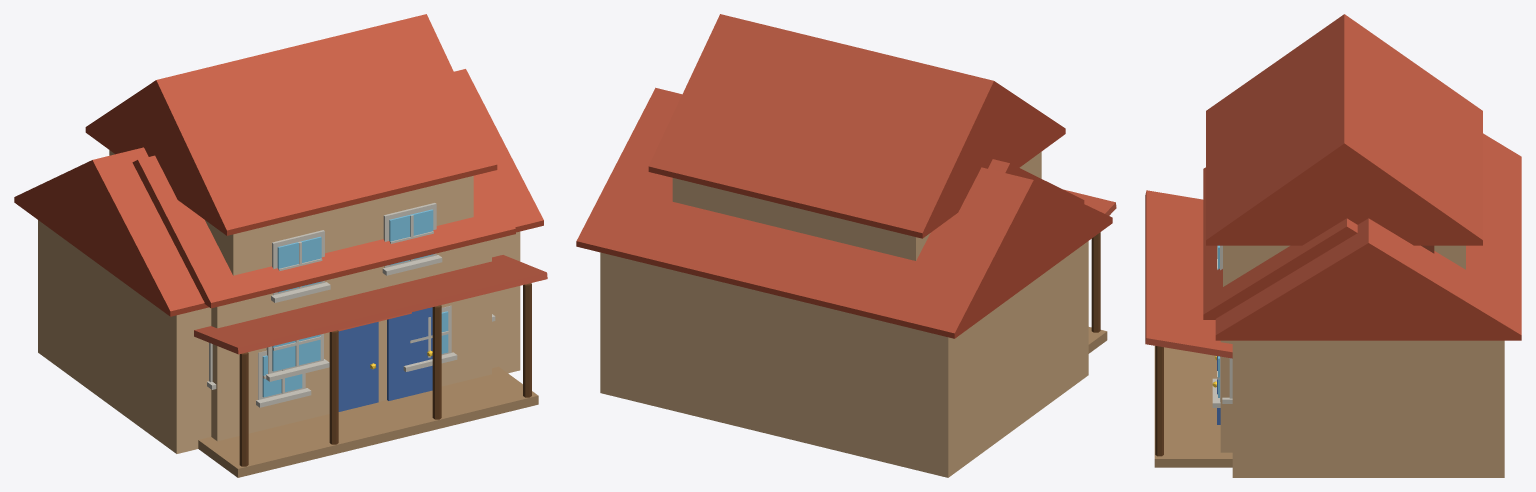
The model's file is Yardsweep-Scenery.glb.
The picture shows the model from 3 angles, left to right: view 1: azimuth 30°, elevation 25°; view 2: azimuth 150°, elevation 25°; view 3: azimuth 270°, elevation 25°; orthographic projection. The views are drawn at different scales.
Visible parts, largest first — view 1: house_10, house_20, house_00; view 2: house_20, house_10, house_00; view 3: house_20, house_10, house_00.
Boxes of the visible parts, <box> form: house_10: <box>85,14,497,411</box>; house_20: <box>14,69,547,477</box>; house_00: <box>132,155,515,441</box>; house_20: <box>576,87,1116,477</box>; house_10: <box>648,14,1065,260</box>; house_00: <box>988,159,1084,203</box>; house_20: <box>1145,133,1521,477</box>; house_10: <box>1206,14,1482,407</box>; house_00: <box>1203,167,1357,452</box>.
Bounding box in the file's own units: 8.7 × 7.2 × 7.75.
